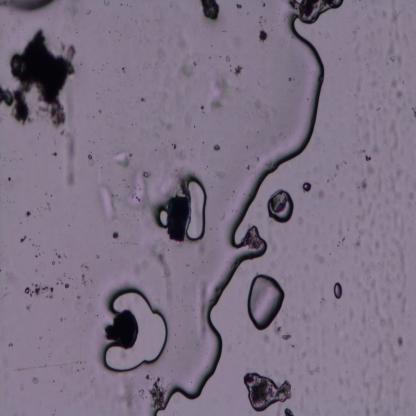Air bubble: (152, 0, 344, 414), (104, 286, 171, 374), (247, 272, 288, 332), (243, 368, 294, 409), (185, 175, 208, 242), (267, 189, 294, 224), (156, 206, 169, 228), (333, 282, 344, 298), (302, 182, 312, 192)
Background material: (0, 27, 78, 131), (338, 154, 378, 240), (382, 227, 407, 316), (135, 238, 176, 283), (103, 307, 139, 349), (65, 94, 79, 187), (94, 179, 119, 224), (124, 168, 149, 209), (208, 73, 232, 112), (379, 68, 406, 100), (0, 0, 57, 13), (119, 382, 142, 414), (385, 30, 402, 68), (36, 180, 54, 212), (179, 54, 198, 82), (150, 376, 164, 411), (22, 284, 54, 299), (200, 1, 221, 22), (183, 102, 197, 130), (48, 250, 64, 273), (391, 328, 405, 352), (80, 259, 91, 289), (112, 151, 129, 168), (58, 276, 74, 294), (313, 247, 325, 266), (231, 63, 245, 78), (257, 28, 268, 44), (86, 154, 96, 168), (408, 111, 416, 126), (111, 229, 120, 241), (281, 332, 293, 341), (119, 64, 128, 75), (212, 143, 221, 152), (20, 234, 28, 244), (24, 209, 32, 218), (141, 93, 148, 103), (52, 150, 58, 157)
Fragment: (167, 195, 190, 244)
